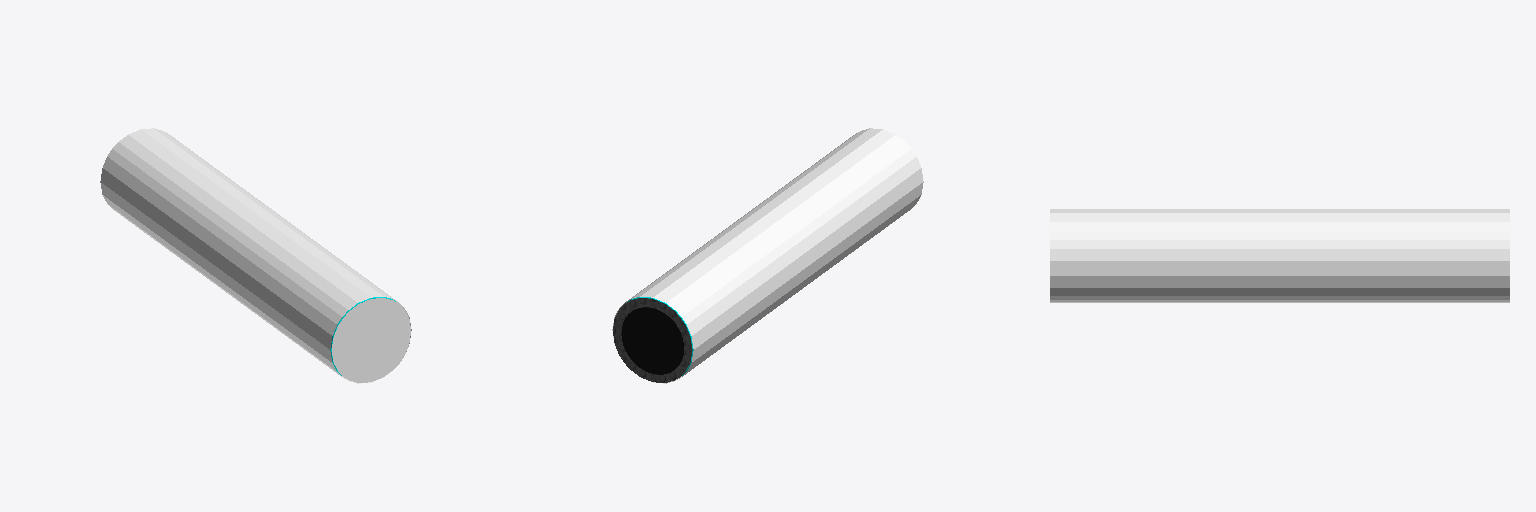
3 views of the same model, side by side, from view 1: azimuth 30°, elevation 25°; view 2: azimuth 150°, elevation 25°; view 3: azimuth 270°, elevation 25° (orthographic).
Parts seen in each view (by area): view 1: Mininglaser3, Mininglaser4, Mininglaser7; view 2: Mininglaser3, Mininglaser4, Mininglaser2; view 3: Mininglaser5, Mininglaser4, Mininglaser6.
Boxes of the visible parts, x1=… form: Mininglaser3: x1=100, y1=149, x2=341, y2=376; Mininglaser4: x1=112, y1=128, x2=397, y2=316; Mininglaser7: x1=332, y1=298, x2=410, y2=382; Mininglaser3: x1=682, y1=149, x2=923, y2=376; Mininglaser4: x1=626, y1=128, x2=911, y2=316; Mininglaser2: x1=613, y1=298, x2=691, y2=382; Mininglaser5: x1=1050, y1=240, x2=1509, y2=299; Mininglaser4: x1=1050, y1=209, x2=1509, y2=239; Mininglaser6: x1=1050, y1=300, x2=1509, y2=302.
Size of the model in its own units: 2.04 by 2.04 by 10.04.
4 materials, 1 textured.